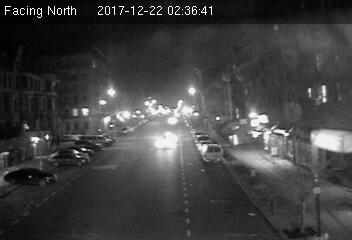car: (152, 131, 180, 151)
truck: (202, 143, 223, 163)
